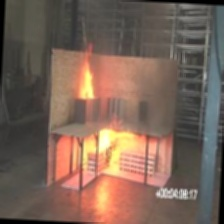fire: (83, 116, 139, 174), (66, 41, 111, 108)
